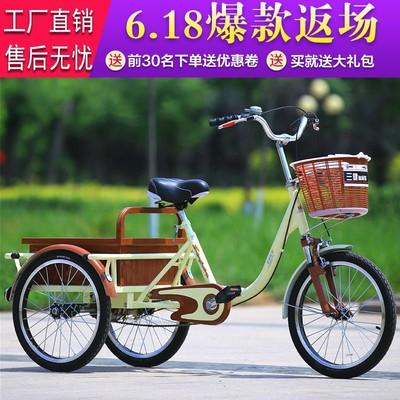empty: (4, 102, 395, 379)
